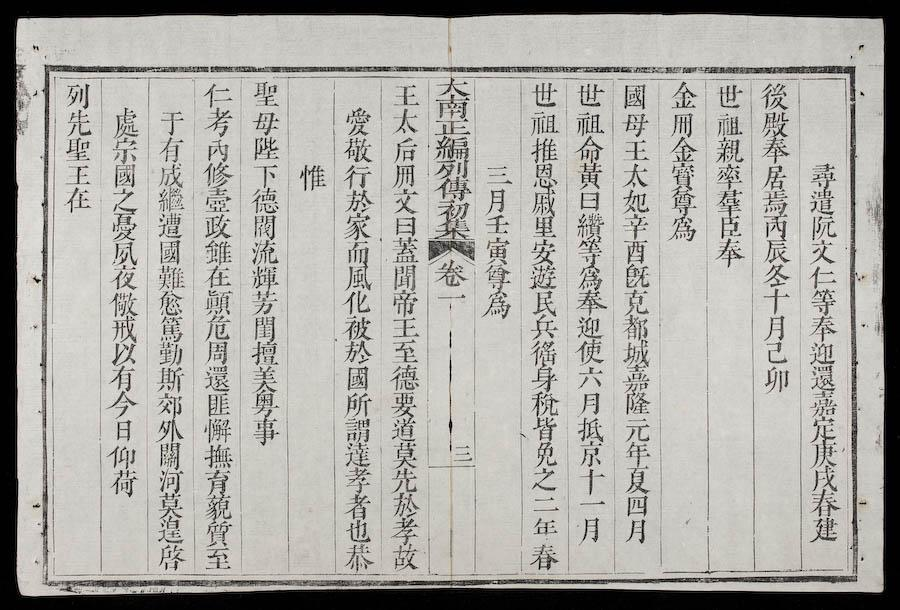c: (432, 259, 469, 289), (110, 106, 141, 139), (527, 541, 561, 571), (431, 137, 473, 161), (342, 106, 374, 137), (758, 81, 791, 111), (387, 364, 422, 392), (433, 178, 473, 202), (202, 107, 234, 137), (249, 79, 281, 109), (388, 542, 421, 571), (342, 542, 375, 571), (668, 81, 699, 111), (481, 291, 513, 320), (296, 163, 328, 192), (713, 238, 745, 267), (108, 213, 140, 242), (61, 186, 94, 214), (248, 417, 281, 445), (388, 108, 421, 136), (154, 544, 188, 571), (432, 218, 473, 240), (63, 109, 94, 138), (529, 81, 560, 110), (107, 469, 139, 497), (388, 440, 420, 468), (574, 212, 606, 240), (341, 214, 373, 242), (807, 390, 840, 417), (248, 390, 281, 417), (106, 391, 139, 418), (808, 489, 841, 516), (808, 516, 841, 543), (248, 187, 281, 214), (201, 289, 234, 316), (806, 314, 839, 341), (619, 340, 652, 367), (758, 137, 792, 163), (433, 97, 471, 120), (761, 365, 792, 393), (574, 163, 605, 191), (201, 469, 233, 496), (808, 440, 840, 467), (248, 365, 280, 392), (667, 188, 699, 215), (620, 366, 652, 393), (619, 163, 651, 190), (389, 237, 421, 264), (201, 187, 233, 214), (528, 137, 560, 164), (154, 366, 186, 393), (759, 111, 791, 138), (574, 82, 606, 109), (201, 365, 233, 392), (389, 82, 422, 108), (573, 111, 606, 137), (247, 240, 280, 266), (528, 391, 561, 417), (154, 265, 187, 291), (201, 443, 234, 469), (247, 290, 280, 316), (201, 81, 234, 107), (201, 495, 234, 521), (341, 392, 374, 418), (387, 391, 420, 417), (573, 290, 607, 315), (576, 514, 605, 543), (714, 82, 744, 110), (482, 264, 513, 291), (713, 137, 744, 164), (202, 520, 233, 547), (667, 216, 698, 243), (528, 340, 559, 367), (154, 212, 185, 239), (389, 290, 420, 317), (807, 161, 838, 188), (202, 416, 233, 443), (807, 287, 838, 314), (667, 163, 698, 190), (62, 137, 94, 163), (621, 416, 653, 442), (108, 291, 140, 317), (108, 317, 140, 343), (249, 110, 281, 136), (201, 162, 233, 188), (342, 164, 374, 190), (574, 339, 606, 365), (201, 214, 233, 240), (249, 136, 281, 162), (528, 111, 560, 137), (575, 468, 607, 494), (806, 188, 838, 214), (574, 416, 606, 442), (388, 340, 421, 365), (388, 492, 421, 517), (388, 517, 421, 542), (341, 316, 374, 341), (201, 240, 234, 265), (433, 77, 472, 98), (621, 83, 650, 111), (530, 163, 559, 191), (157, 108, 186, 136), (622, 465, 652, 492), (156, 136, 186, 163), (483, 237, 513, 264), (343, 492, 373, 519), (620, 189, 651, 215), (574, 239, 605, 265), (155, 517, 186, 543), (342, 466, 373, 492), (667, 137, 698, 163), (528, 265, 559, 291), (713, 189, 744, 215), (713, 112, 744, 138), (62, 82, 93, 108), (342, 137, 373, 163), (620, 315, 651, 341), (202, 315, 233, 341), (341, 418, 373, 443), (808, 416, 840, 441), (107, 443, 139, 468), (342, 189, 374, 214), (108, 266, 140, 291), (341, 341, 374, 365), (391, 137, 420, 164), (155, 442, 184, 469), (156, 316, 186, 342), (155, 492, 185, 518), (620, 112, 650, 138), (390, 190, 420, 216), (621, 289, 651, 315), (760, 164, 790, 190), (529, 366, 559, 392), (110, 138, 140, 164), (761, 288, 792, 313), (760, 214, 791, 239), (342, 442, 373, 467), (107, 366, 138, 391), (807, 364, 838, 389), (575, 442, 606, 467), (155, 188, 186, 213), (574, 137, 605, 162), (713, 164, 744, 189), (620, 138, 651, 163), (155, 291, 186, 316), (761, 239, 792, 264), (574, 265, 605, 290), (154, 418, 185, 443), (808, 215, 839, 240), (387, 417, 419, 441), (388, 468, 420, 492), (248, 266, 280, 290), (153, 393, 185, 417), (248, 341, 280, 365), (341, 291, 373, 315), (483, 188, 511, 215), (343, 366, 372, 392), (390, 265, 419, 291), (249, 315, 278, 341), (529, 191, 558, 217), (155, 468, 185, 493), (109, 189, 139, 214), (156, 164, 186, 189), (249, 215, 279, 240), (620, 215, 650, 240), (343, 266, 373, 291), (529, 291, 559, 316), (807, 240, 837, 265), (529, 316, 559, 341), (528, 240, 558, 265), (202, 392, 232, 417), (155, 342, 186, 366), (621, 392, 652, 416), (109, 242, 140, 266), (483, 163, 514, 187), (202, 547, 233, 571), (809, 466, 840, 490), (574, 366, 605, 390), (62, 163, 93, 187), (574, 315, 605, 339), (806, 341, 837, 365), (202, 265, 233, 289), (434, 160, 471, 180), (389, 317, 421, 340), (806, 265, 838, 288), (529, 515, 561, 538), (759, 191, 791, 214), (762, 314, 789, 341), (531, 441, 559, 467), (668, 112, 696, 138), (530, 416, 559, 441), (622, 518, 651, 543), (622, 264, 651, 289), (155, 240, 184, 265), (761, 263, 791, 287), (109, 342, 139, 366), (622, 442, 652, 466), (250, 163, 280, 187), (576, 391, 604, 416), (110, 164, 138, 189), (343, 242, 372, 266), (530, 467, 559, 491), (343, 518, 372, 542), (621, 240, 650, 264), (203, 138, 232, 162), (715, 215, 744, 239), (202, 341, 231, 365), (434, 202, 472, 220), (434, 292, 468, 312), (391, 164, 418, 189), (529, 216, 558, 239), (432, 121, 472, 137), (529, 494, 561, 514), (762, 341, 789, 364), (623, 494, 650, 517), (483, 215, 512, 236), (110, 418, 135, 442), (575, 191, 603, 212), (391, 216, 419, 237), (576, 496, 608, 512), (451, 442, 474, 464)
